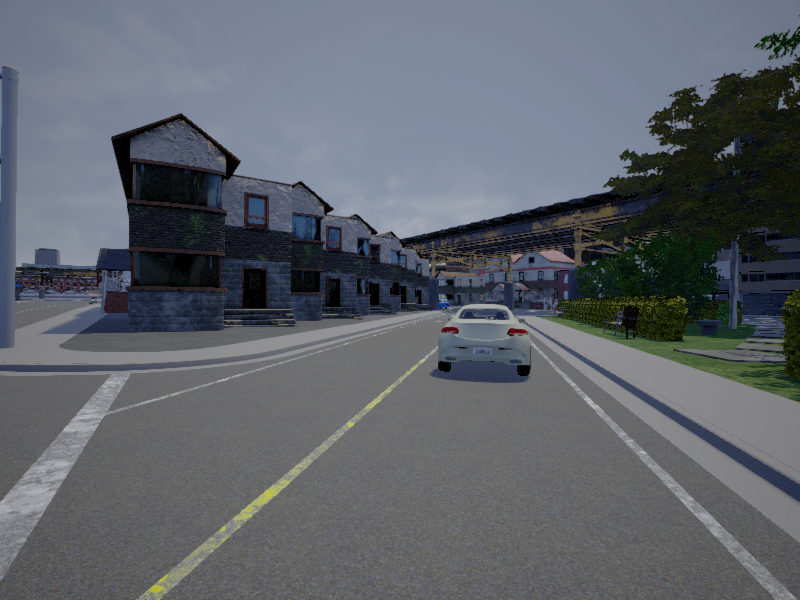Benign: (438, 303, 532, 377)
